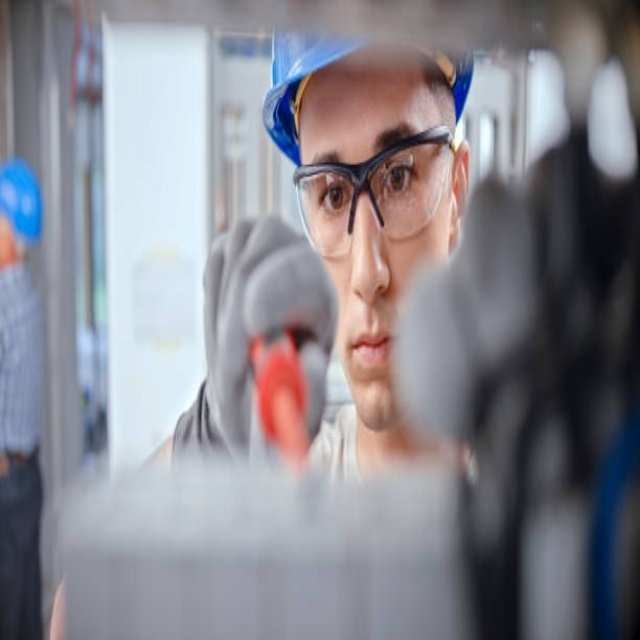Gafas: (291, 126, 455, 260)
Guantes: (190, 213, 336, 457)
Sin_mascara: (342, 315, 396, 421)
